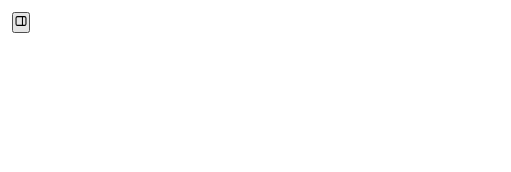
Test case: "Make this a project" asks for an inline confirm, and Cancel backs out without calling the API
Click the button with test id "properties-toggle": x=21, y=22 [12,12,30,33]
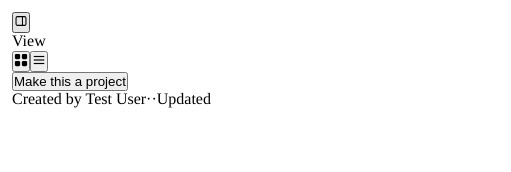
Click the button "Make this a project": x=70, y=82 [12,72,128,91]
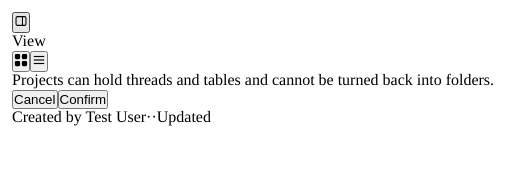
Result: the text "Projects can hold threads and tables and cannot be turned back into folders." is shown at [12,72,494,89]
Click the button "Cancel": x=35, y=100 [12,90,58,109]
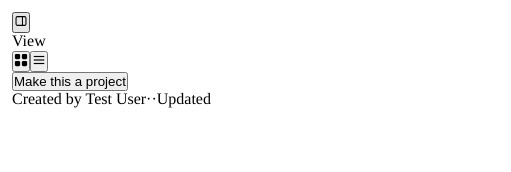
Result: the button "Make this a project" is shown at [12,72,128,91]
